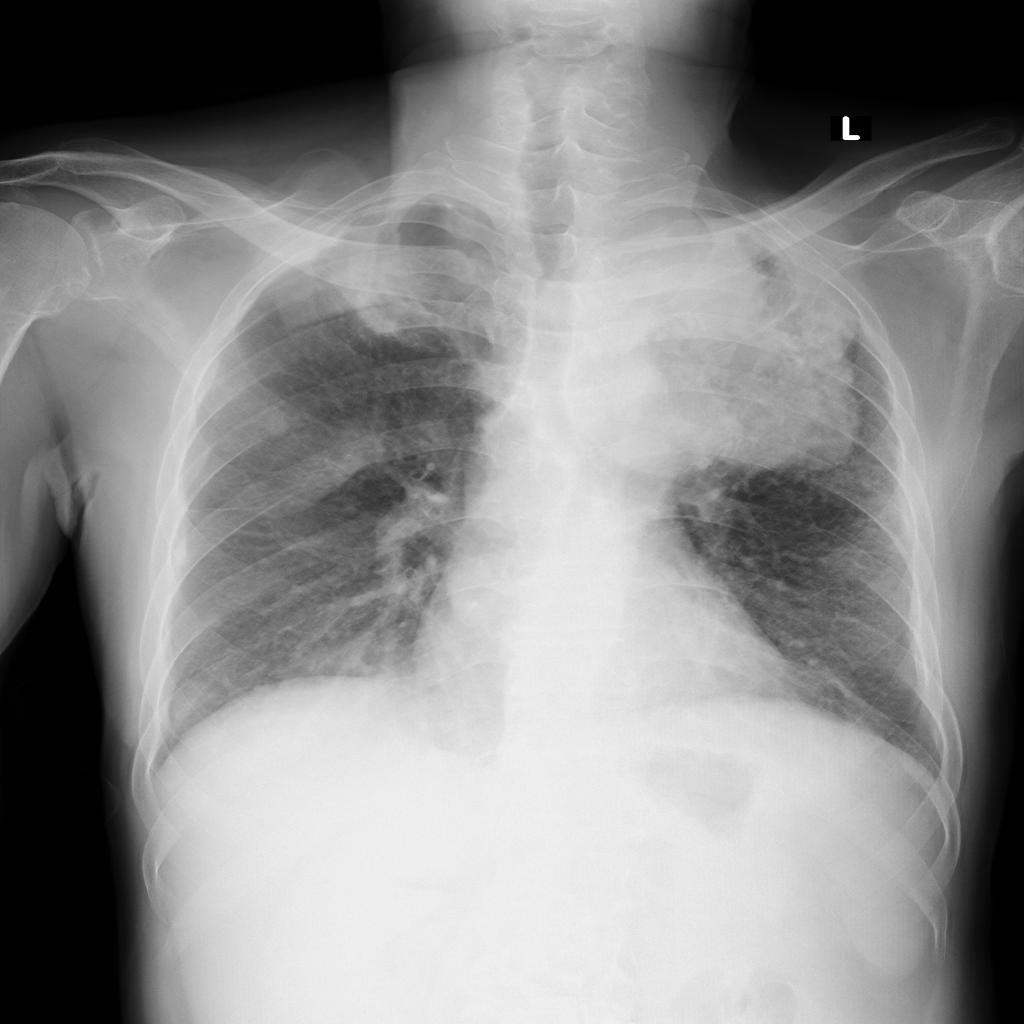Nodule: (628, 215, 854, 466), (258, 404, 290, 435), (204, 611, 225, 630)
